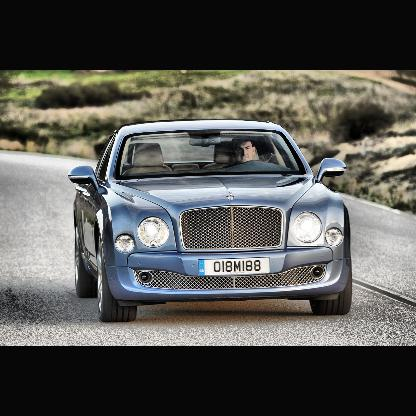Bentley Mulsanne Sedan 2011: (72, 117, 355, 319)
